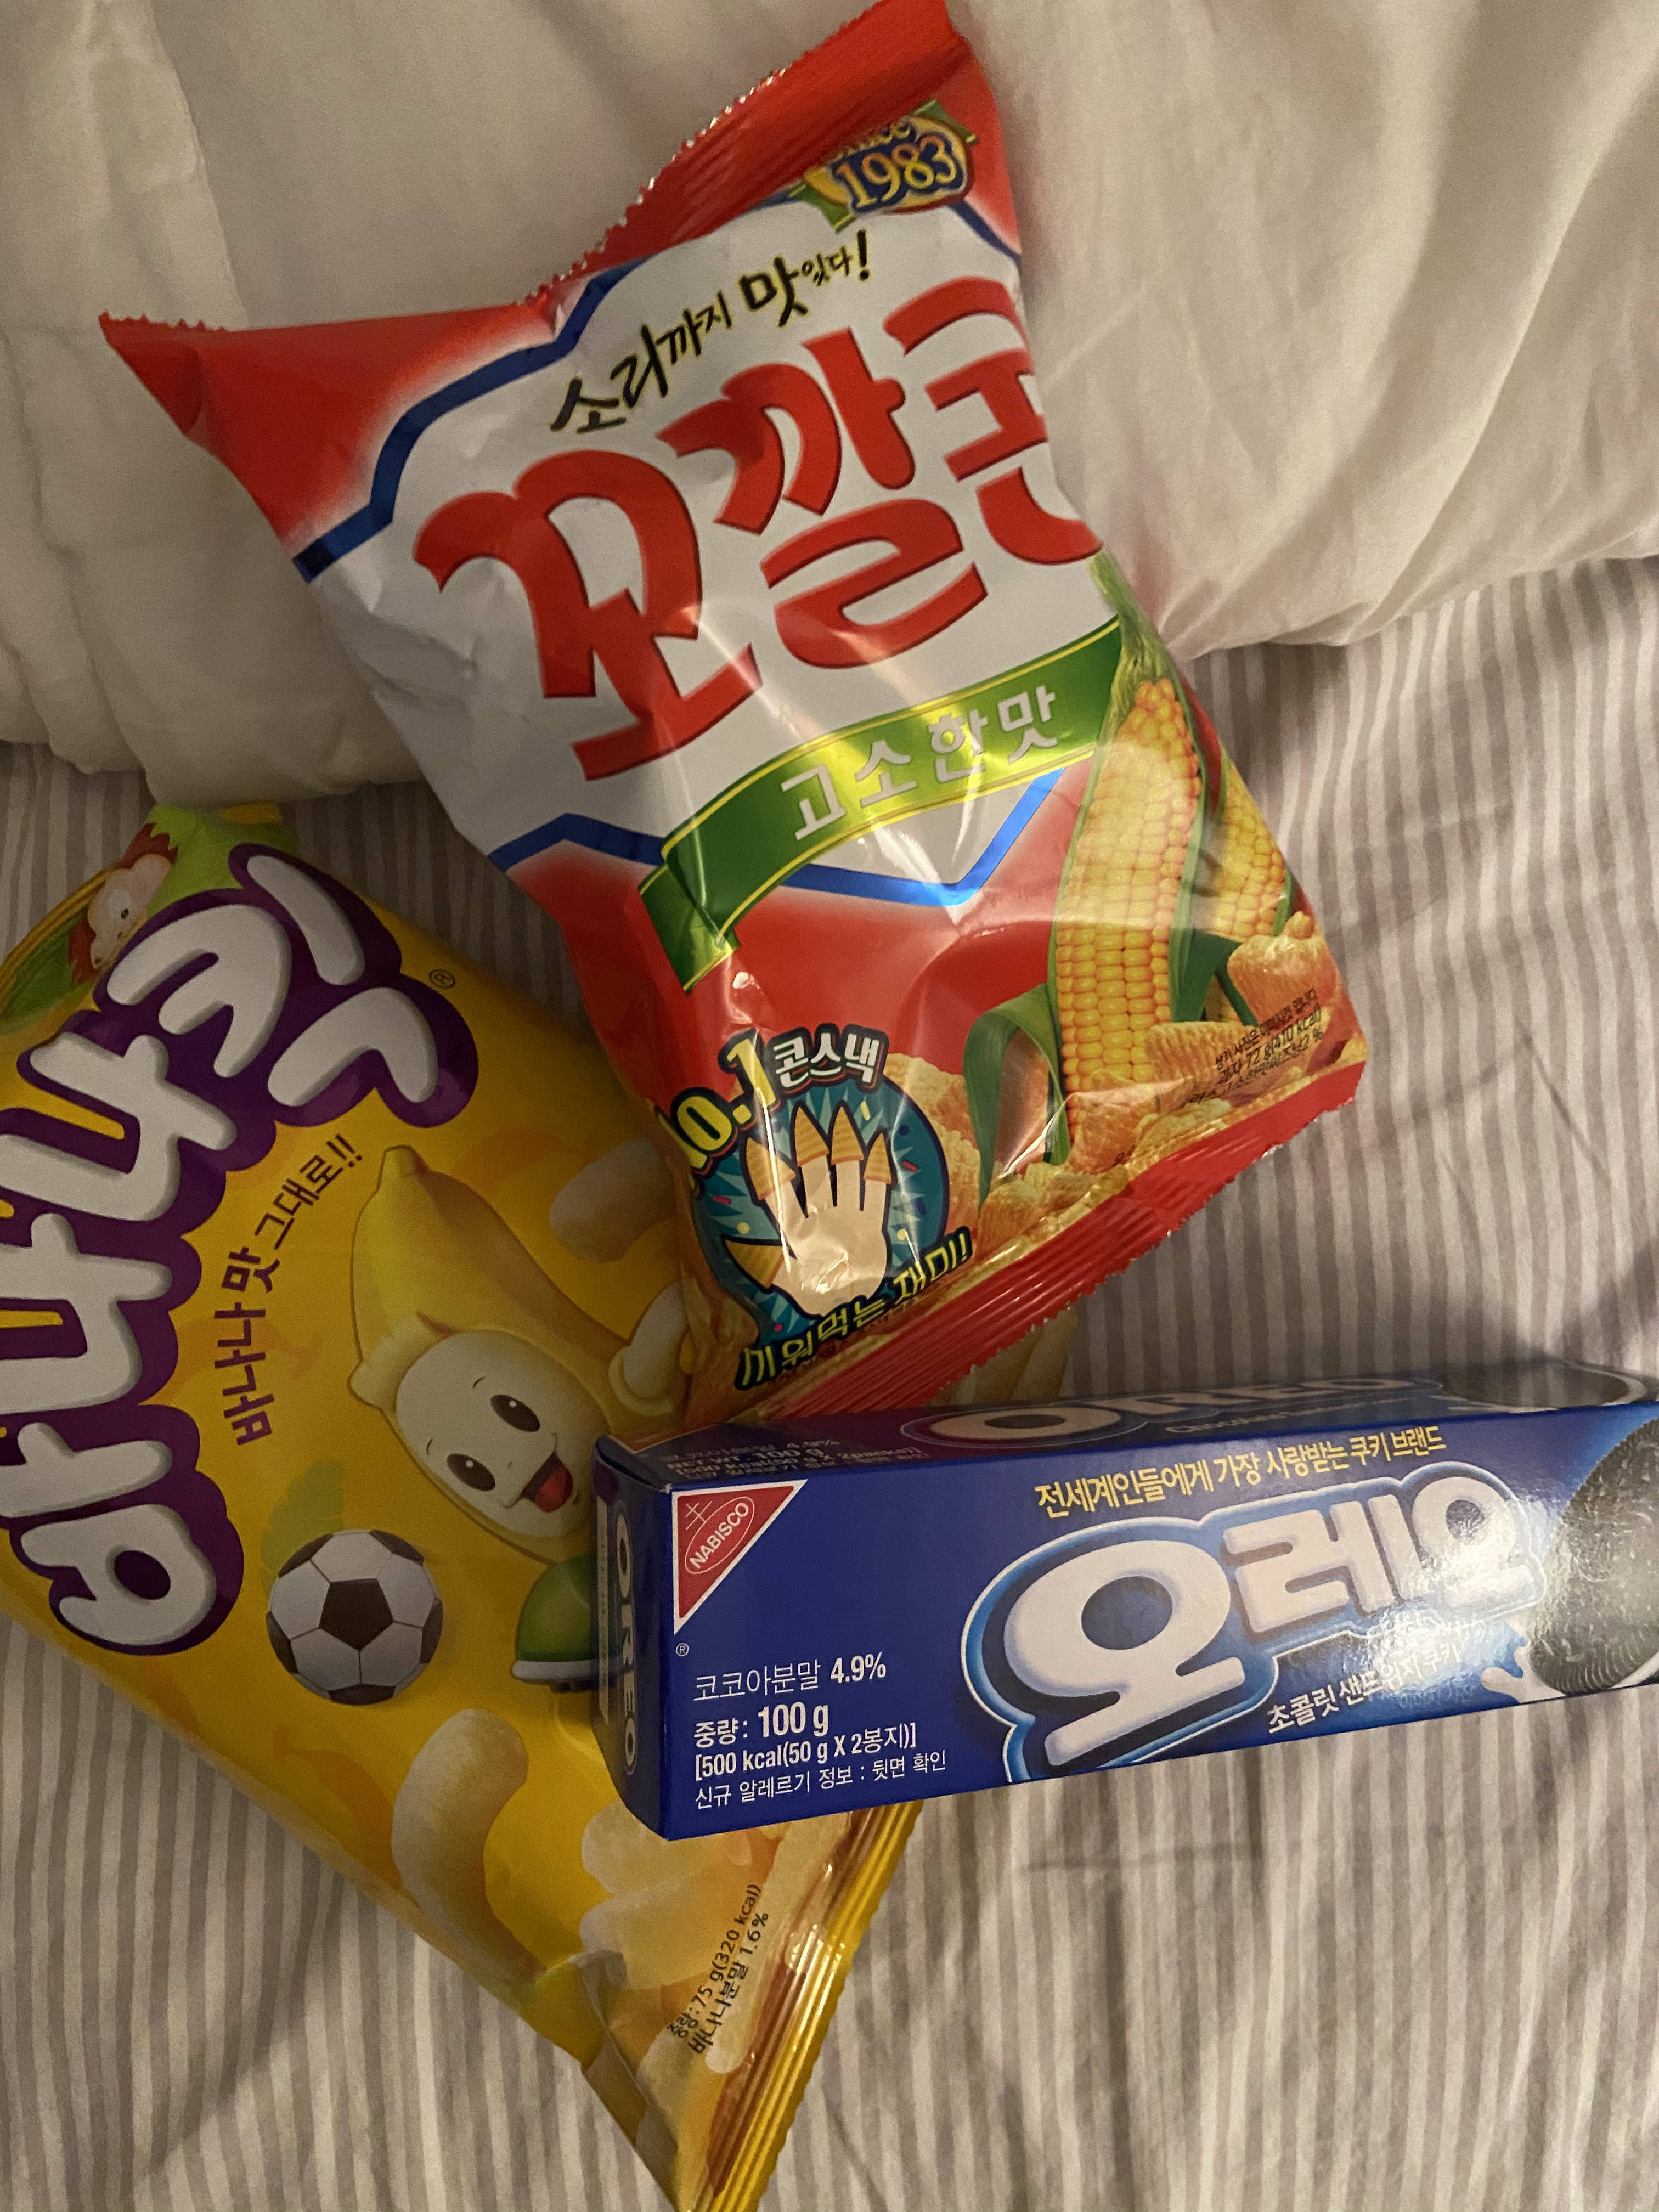banana: (0, 747, 1105, 2207)
ggoggalcon: (87, 5, 1392, 1484)
oreo: (538, 1336, 1659, 1851)
